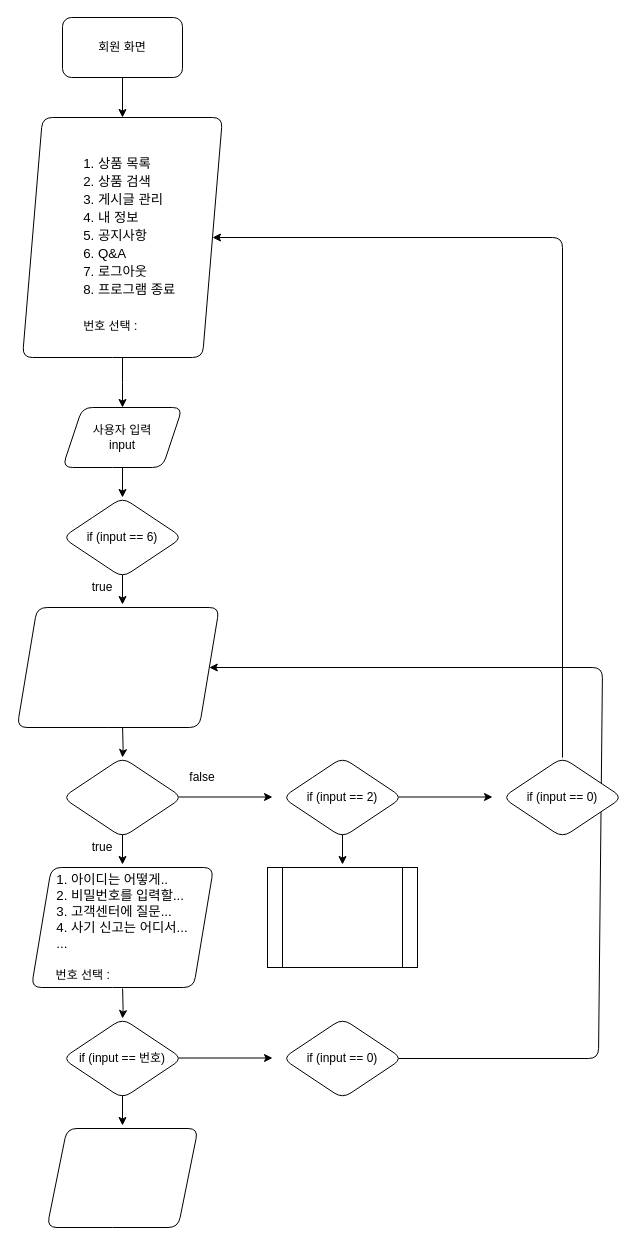
Some shapes in this 641 by 1245 pixel diagram are drawn without their labels. The box of each missing label's shape, as (x1, y1, x2, y2) in pixels:
1. 공지사항(자주하는 질문들) 2. 관리자에게 질문하기 번호 선택 :: (16, 606, 219, 728)
if (input == 1): (62, 756, 182, 838)
Q&A(질문하기) 메소드: (266, 866, 418, 968)
공지사항 확인: (46, 1128, 198, 1228)
